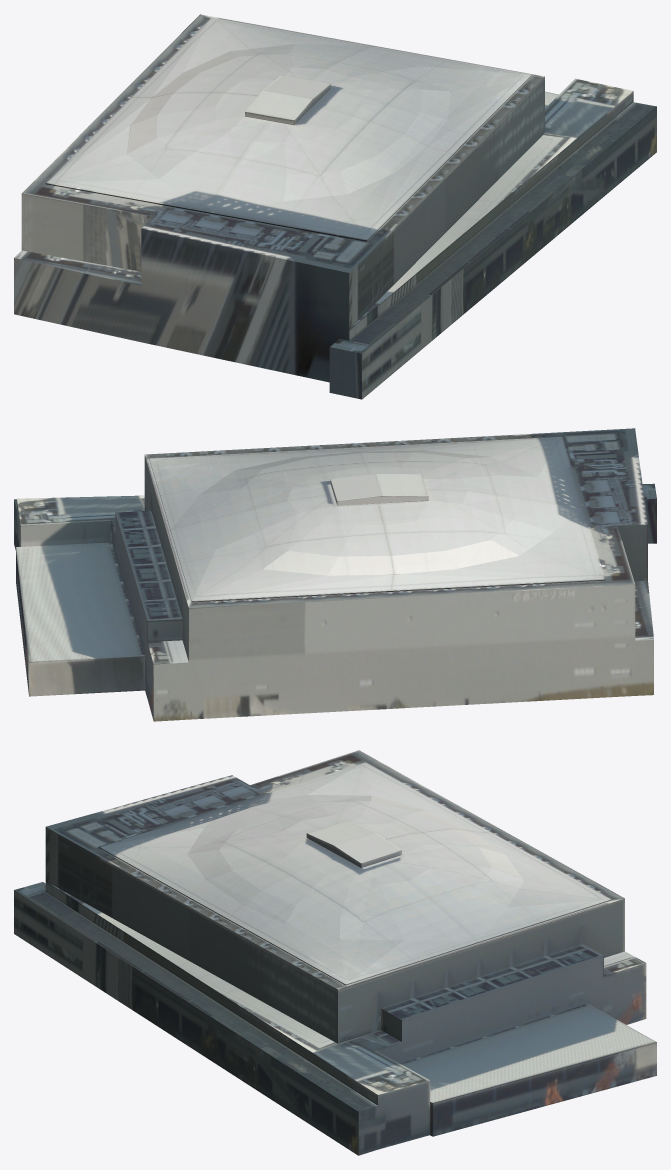
File: unityexport6.obj
3 views of the same model, one above another, from view 1: azimuth 30°, elevation 25°; view 2: azimuth 150°, elevation 25°; view 3: azimuth 270°, elevation 25° (orthographic). The views are drawn at different scales.
Visible parts, largest first — view 1: Baked Mesh 350; view 2: Baked Mesh 350; view 3: Baked Mesh 350.
Boxes of the visible parts, x1,y1,x2,y2 form: Baked Mesh 350: [14, 14, 656, 399]; Baked Mesh 350: [14, 428, 656, 721]; Baked Mesh 350: [14, 750, 656, 1155].
Bounding box in the file's own units: 153 × 33.73 × 137.
